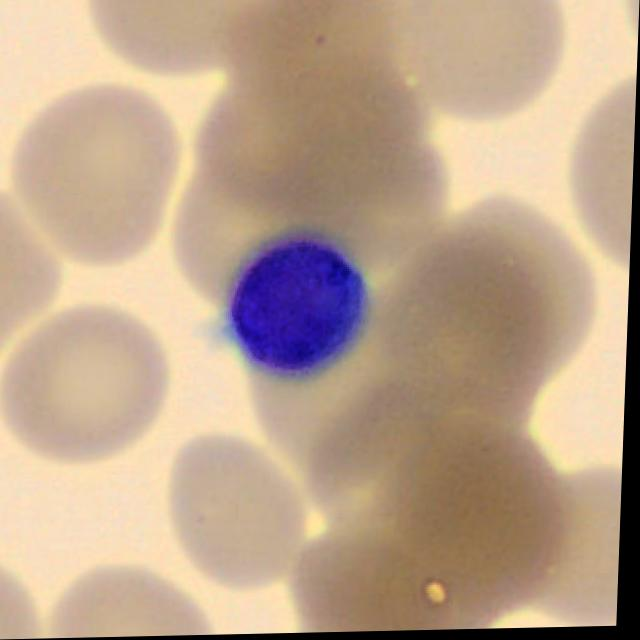Linfocito atipico: (228, 236, 366, 379)
